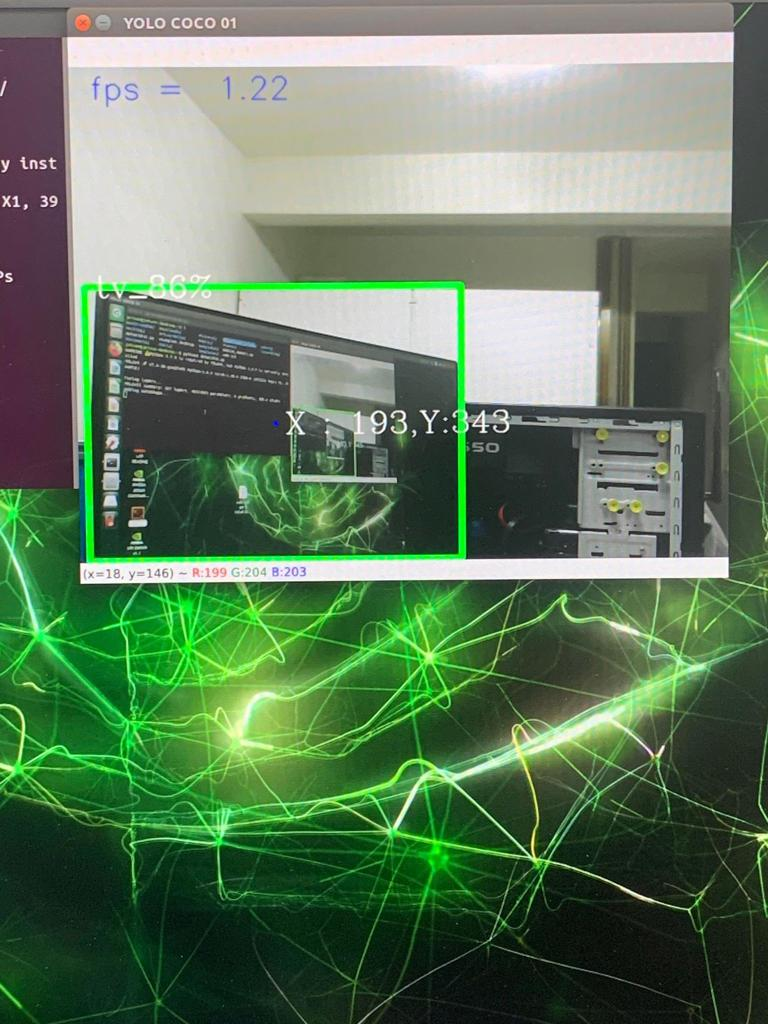Kumquat: (46, 48, 299, 124)
